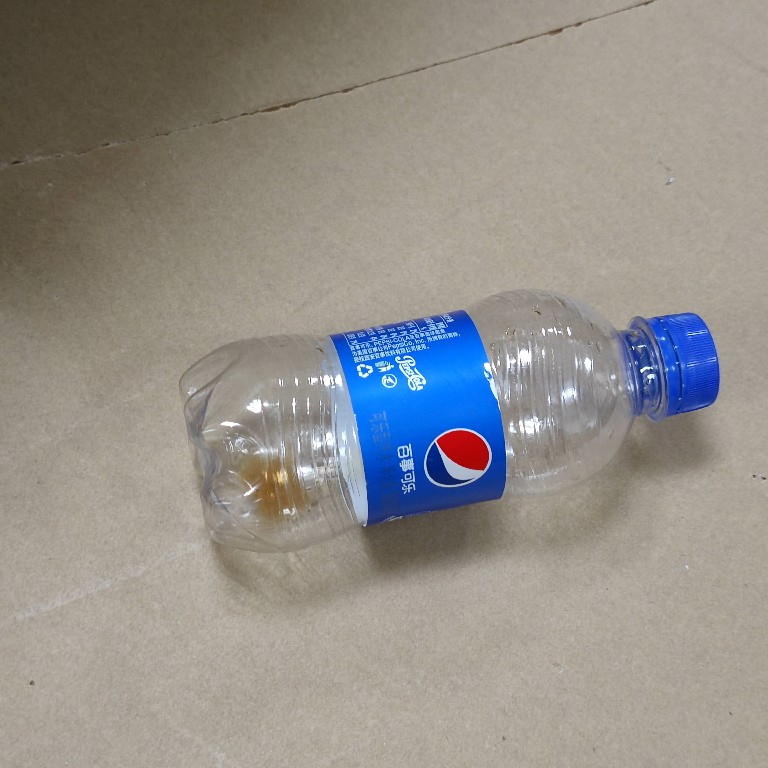bottle: (167, 280, 725, 545)
